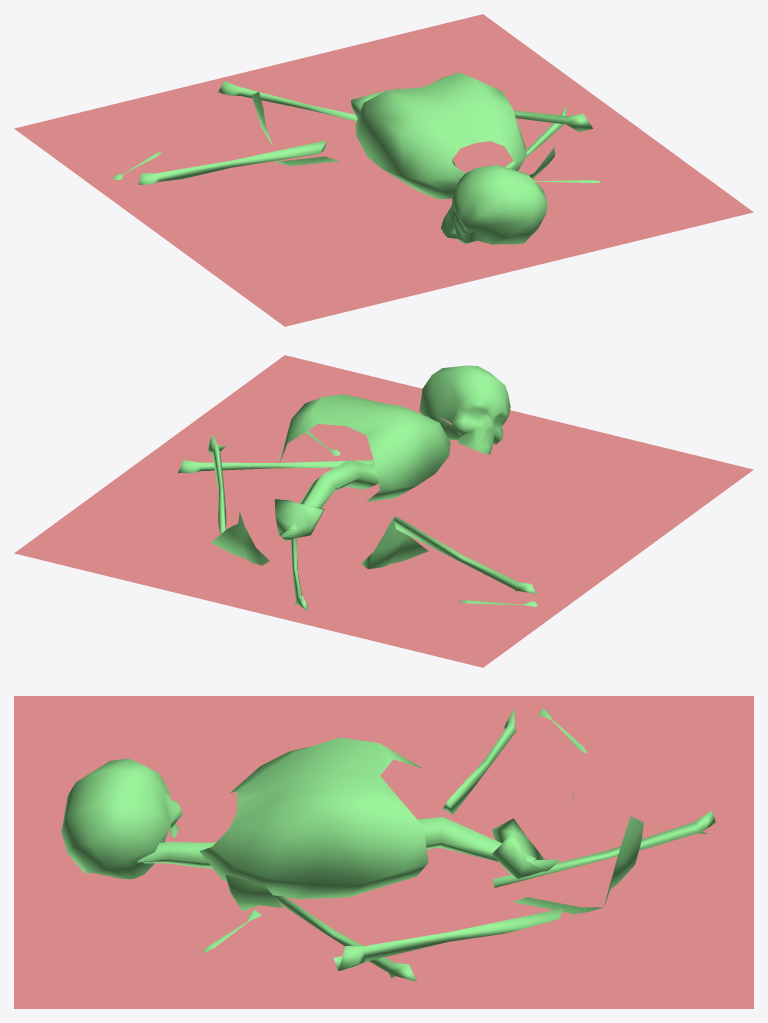
The model's file is field_deco_S__skeleton04.gltf.
The picture shows the model from 3 angles, top to bottom: view 1: azimuth 30°, elevation 25°; view 2: azimuth 150°, elevation 25°; view 3: azimuth 270°, elevation 25°; orthographic projection. The views are drawn at different scales.
Visible parts, largest first — view 1: skeleton04; view 2: skeleton04; view 3: skeleton04.
Boxes of the visible parts, x1,y1,x2,y2 form: skeleton04: (14, 14, 753, 326); skeleton04: (14, 355, 753, 667); skeleton04: (14, 696, 753, 1008).
Bounding box in the file's own units: 0.3 × 0.056 × 0.3.
